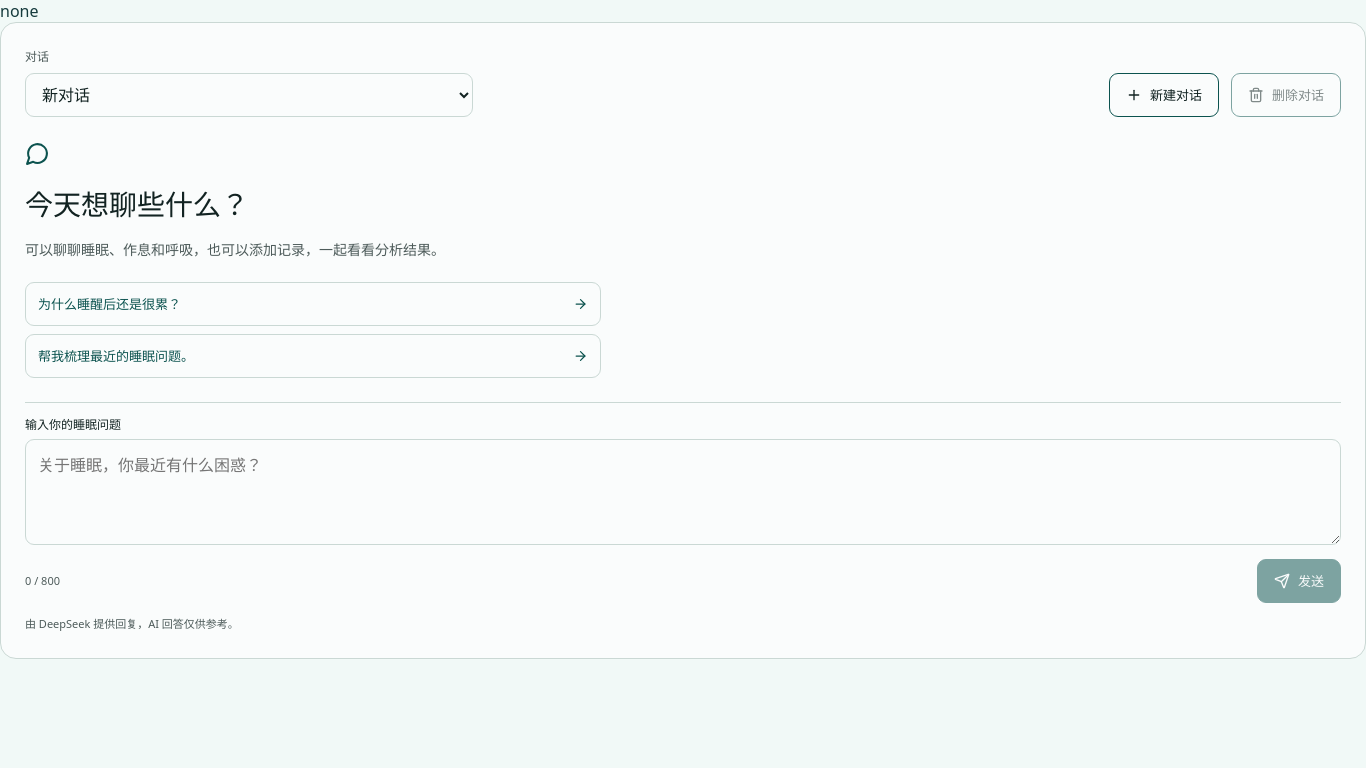
Test: shared assistant session › initialises general chat after delayed authentication and can cancel, reopen and confirm deletion with the real provider
Expected: the text box labelled "输入你的睡眠问题" is enabled, [25,439,1341,545]
Select "Saved sleep conversation" in the dropdown labelled "对话" at (249, 95), box [25,73,473,117]
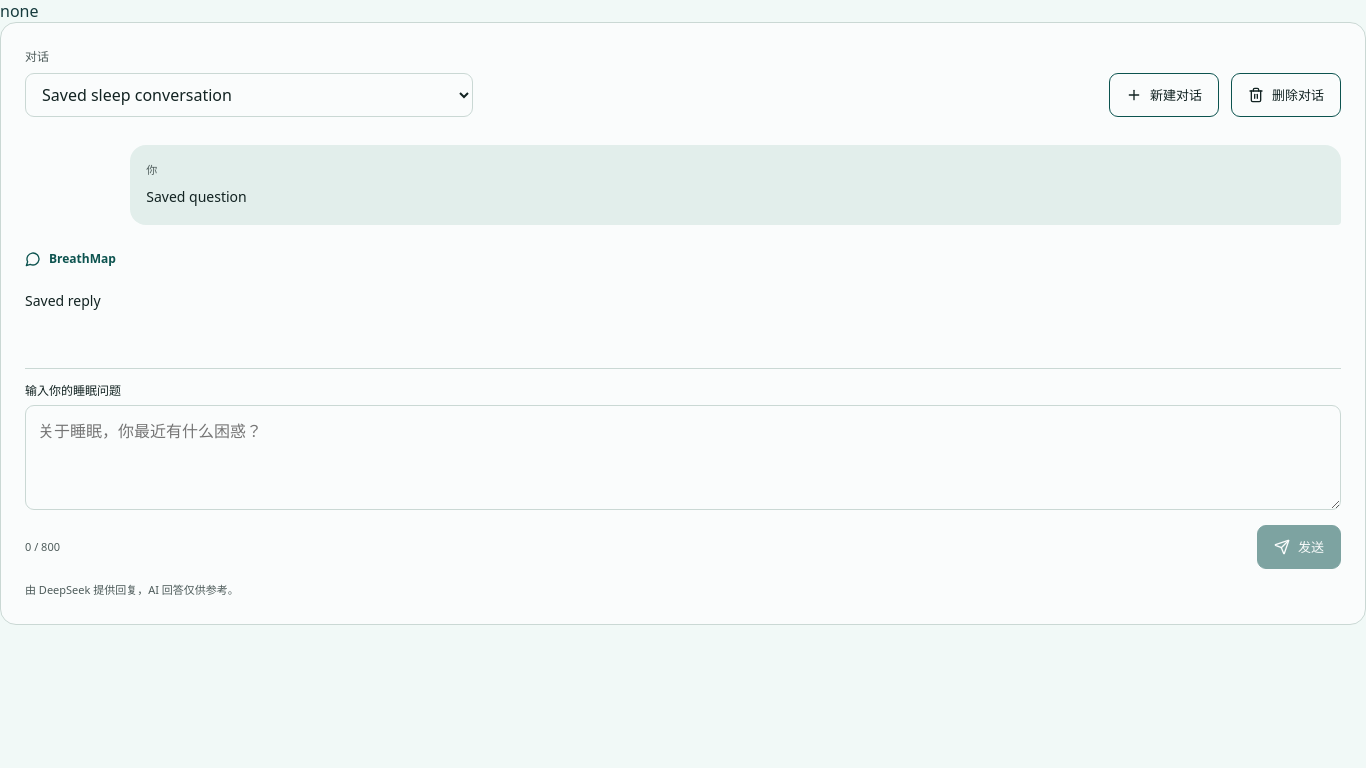
Expected: the text "Saved reply" is shown, [25,291,101,310]
Click the button "删除对话" at (1286, 95), box [1231,73,1341,117]
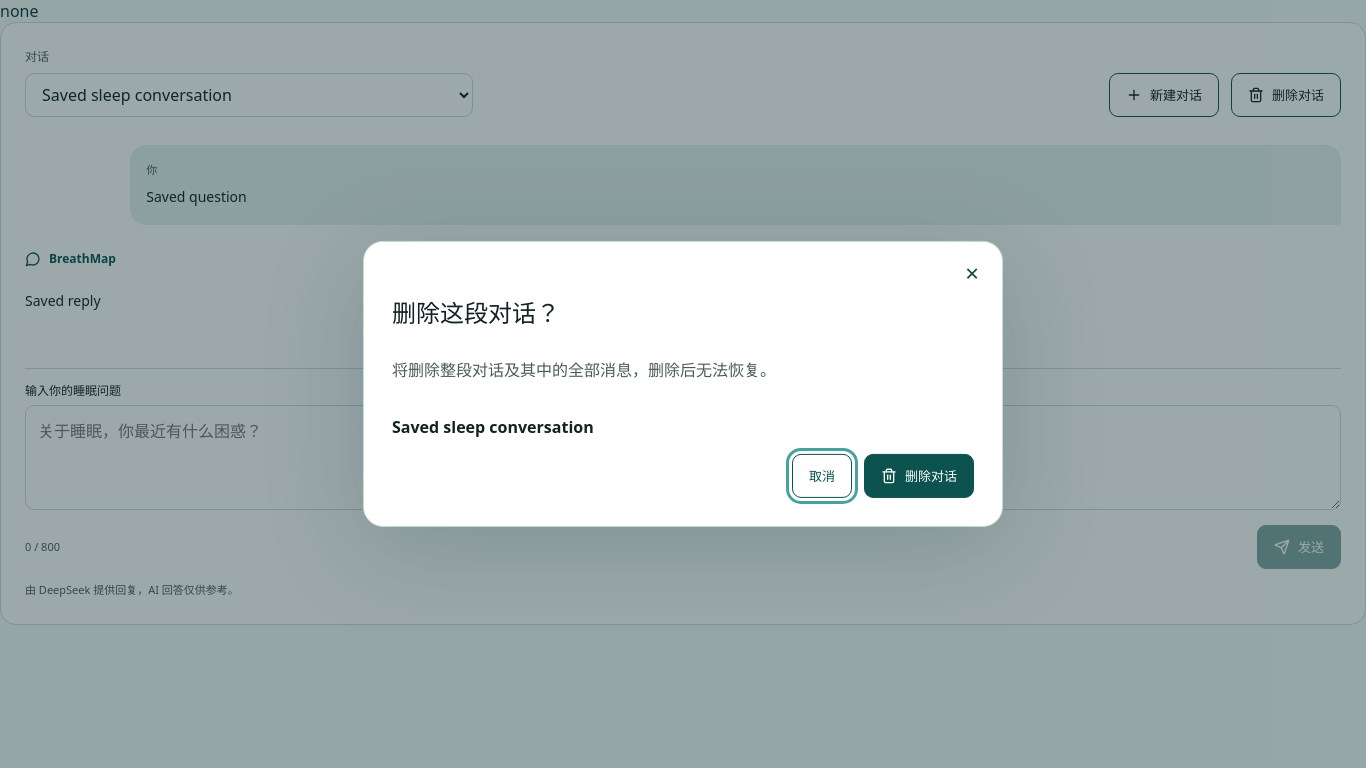
Click the button "取消" at (822, 476), box [792,454,852,498]
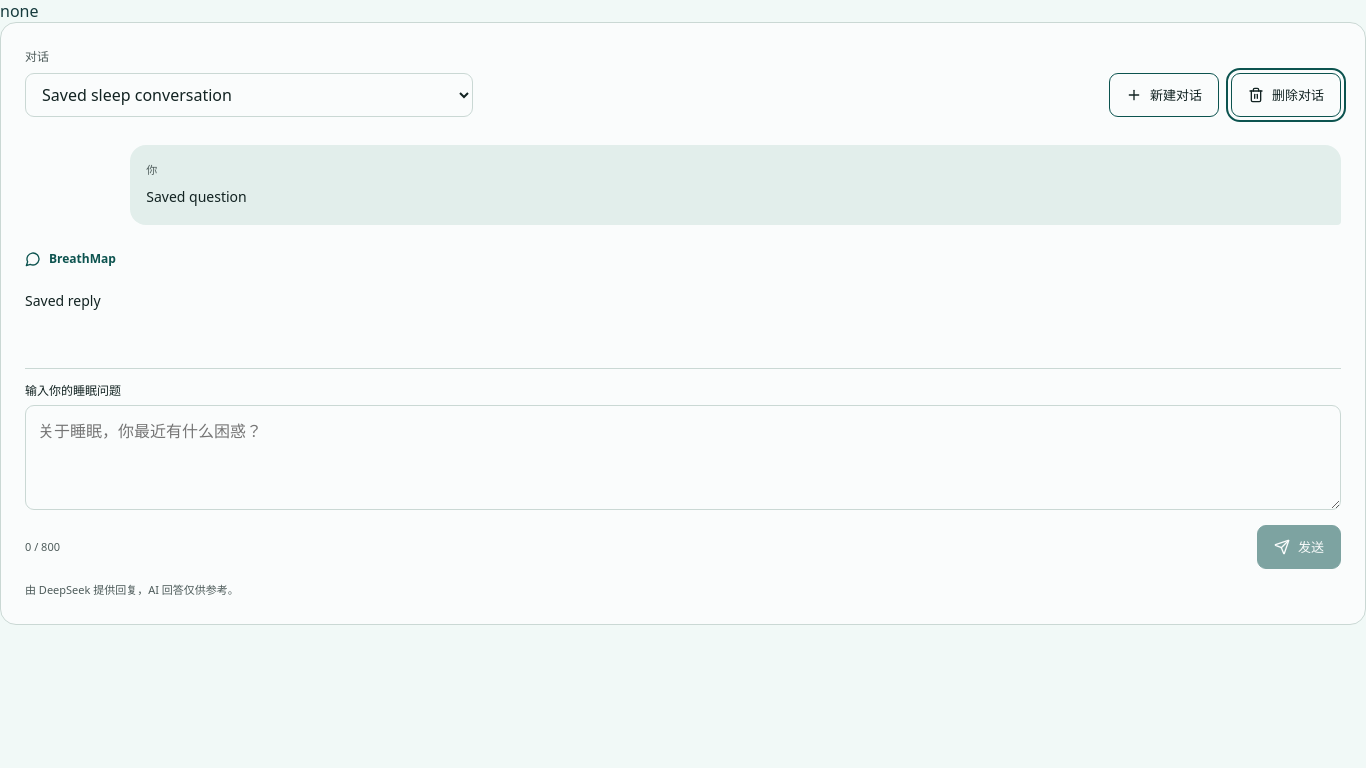
Click the button "删除对话" at (1286, 95), box [1231,73,1341,117]
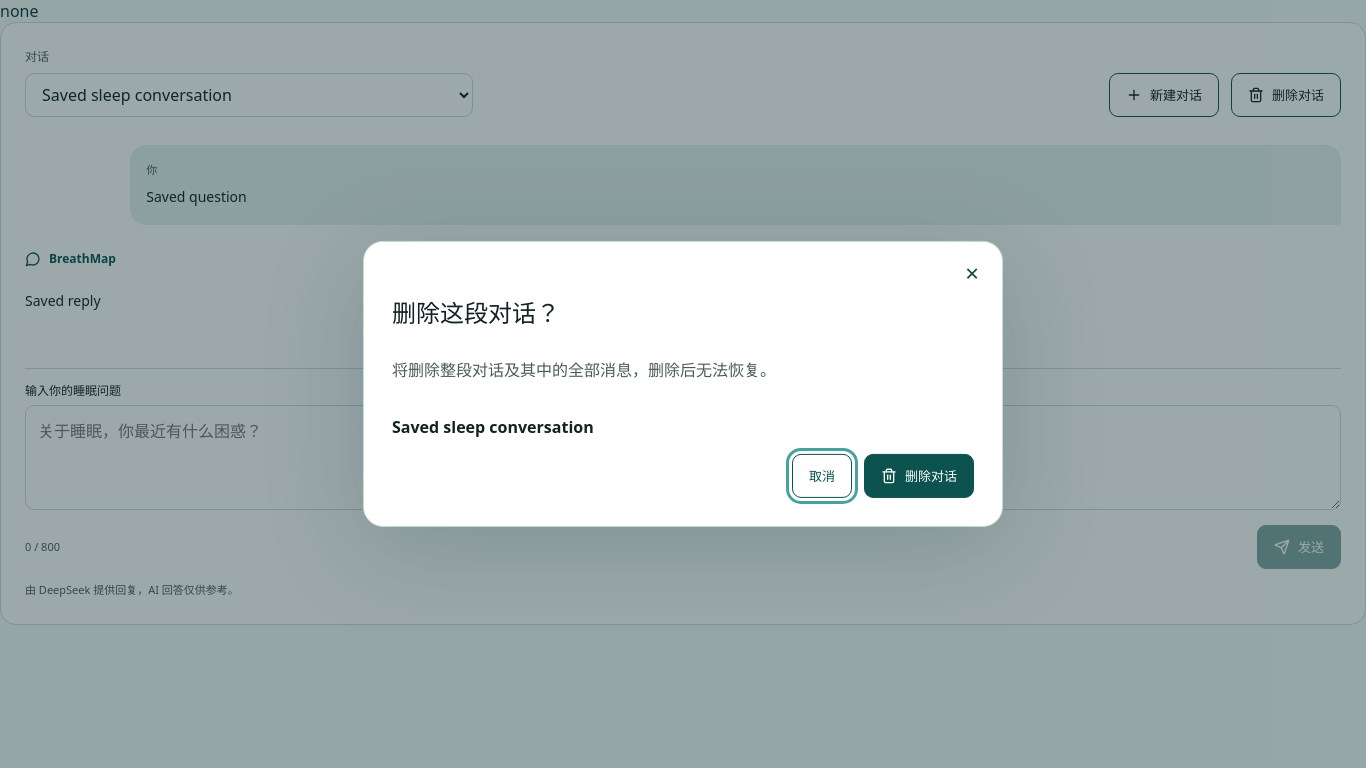
Click the button "删除对话" at (919, 476), box [864,454,974,498]
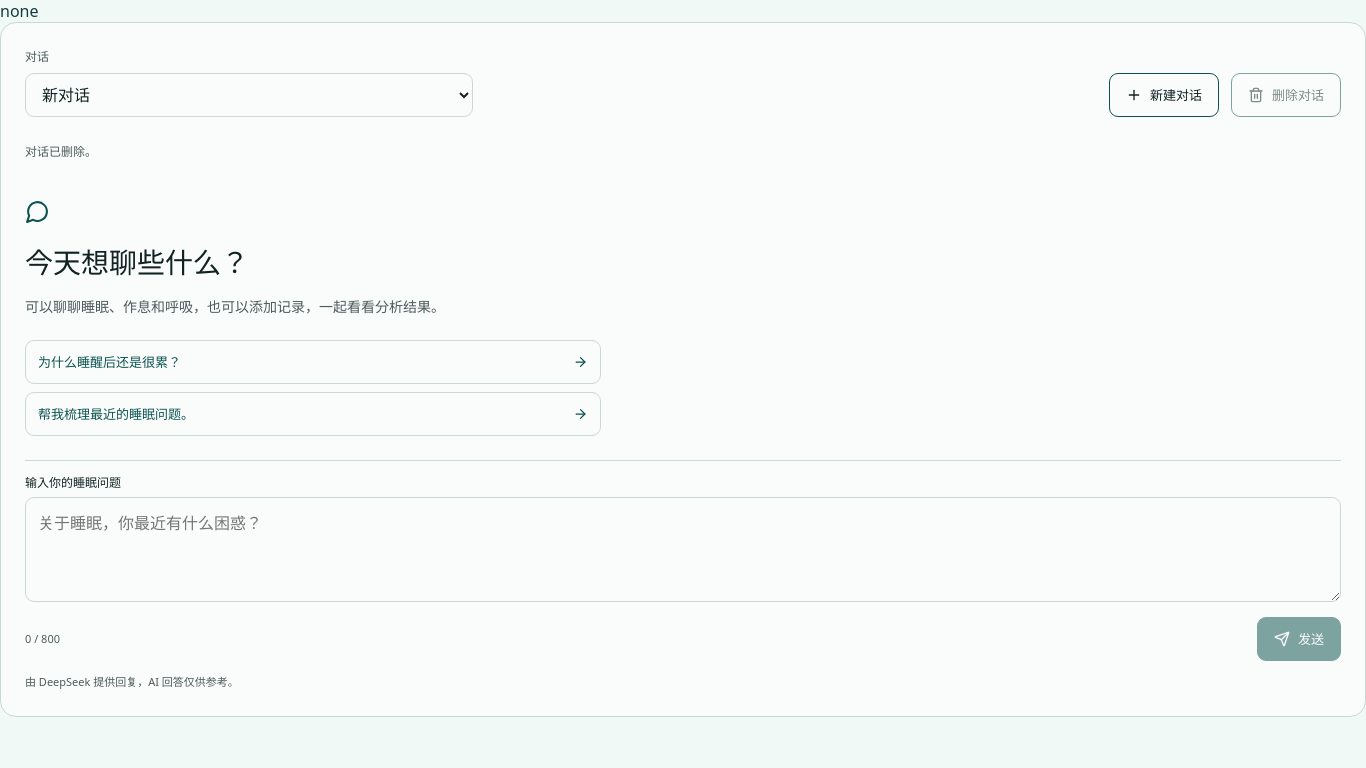
Expected: the text "Saved reply" is gone
Expected: the text "对话已删除。" is shown, [25,143,97,160]
Expected: the button "×" is gone
